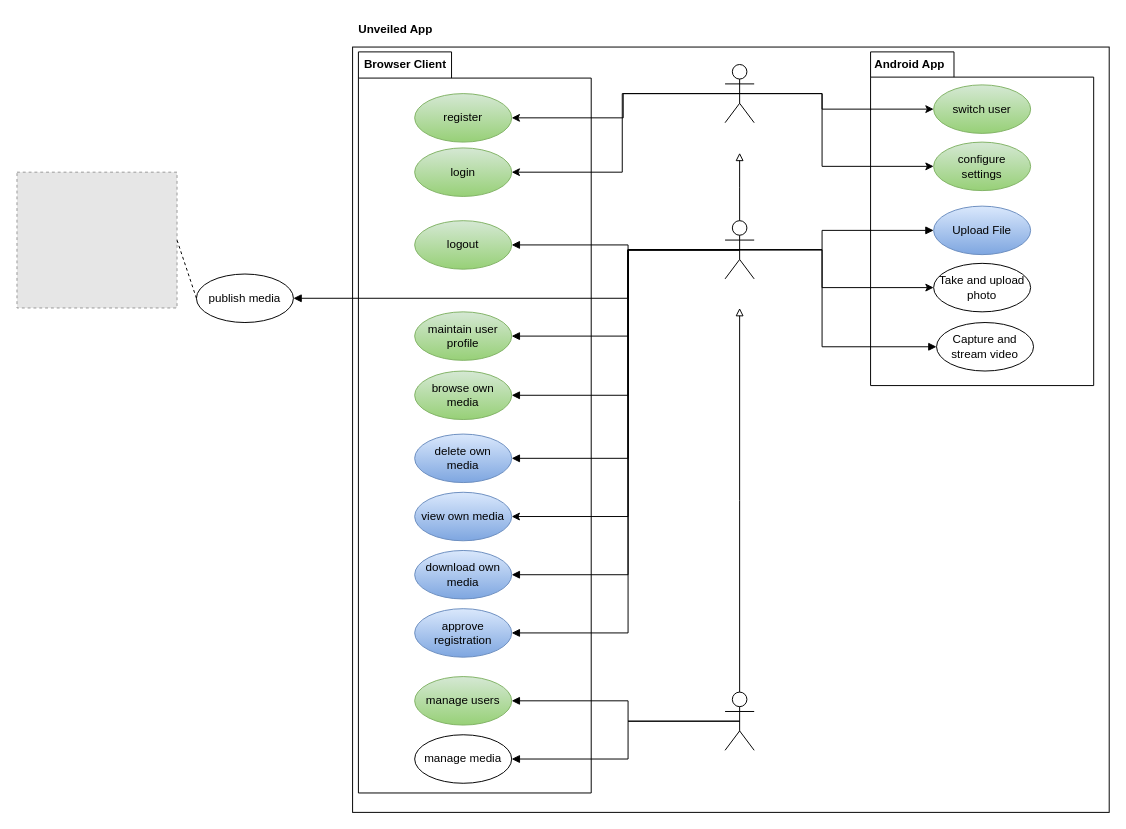
This 1126x829 diagram has some shape labels left out. Grey dashed boxes stand in for pictures. The shapes that lost their labels are listed below. From the top down, each one's centre as x and y in pixels, then its label:
At pixel 739 93: "User".
At pixel 739 249: "logged-in user".
At pixel 739 720: "Admin".
